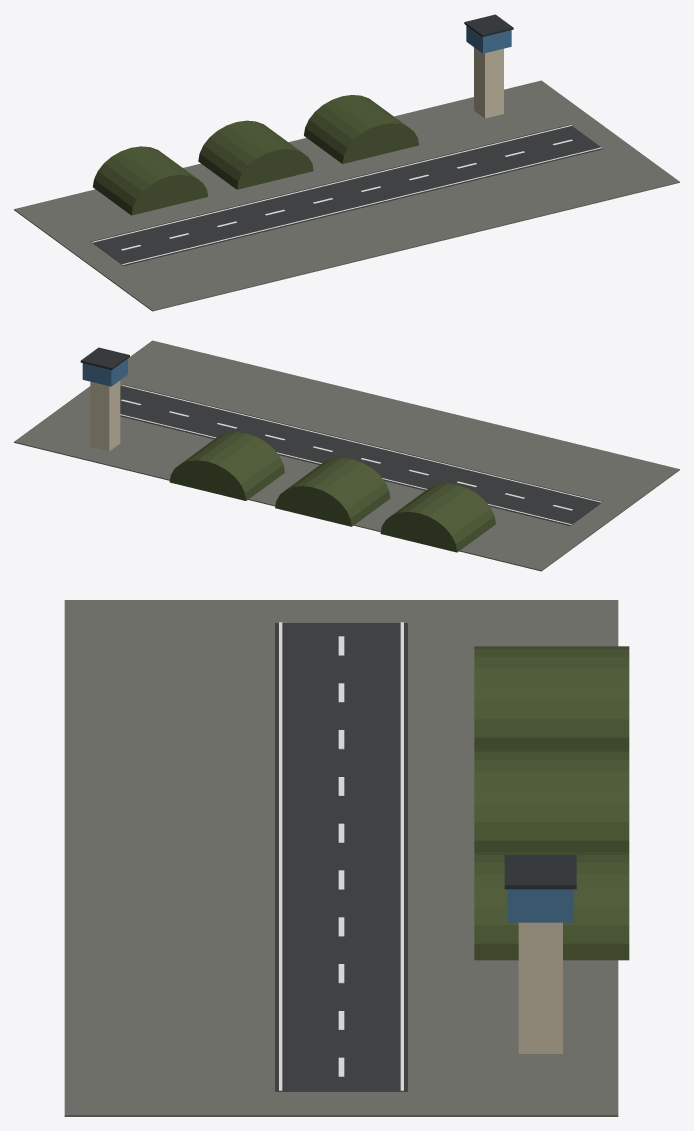
File: airbase.glb
3 views of the same model, one above another, from view 1: azimuth 30°, elevation 25°; view 2: azimuth 150°, elevation 25°; view 3: azimuth 270°, elevation 25° (orthographic). The views are drawn at different scales.
Parts seen in each view (by area): view 1: airbase; view 2: airbase; view 3: airbase.
Part boxes in pixels (bbox=[...]): airbase: bbox=[14, 14, 679, 311]; airbase: bbox=[14, 340, 679, 571]; airbase: bbox=[64, 600, 629, 1116].
Size of the model in its own units: 110 by 17.6 by 51.
